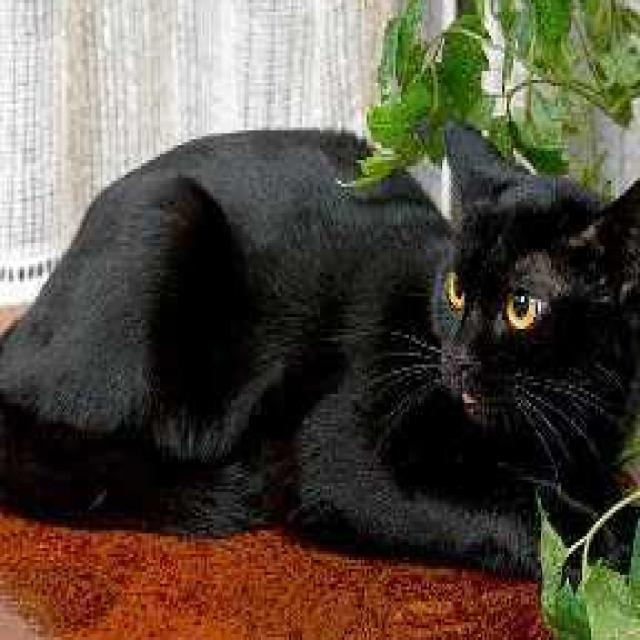Bombay: (0, 112, 640, 590)
